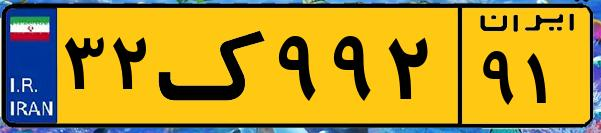1: (525, 38, 570, 115)
2: (385, 28, 445, 110), (110, 28, 158, 98)
3: (57, 26, 110, 100)
9: (270, 28, 330, 110), (330, 28, 385, 110), (475, 38, 525, 113)
ک: (158, 12, 270, 120)
